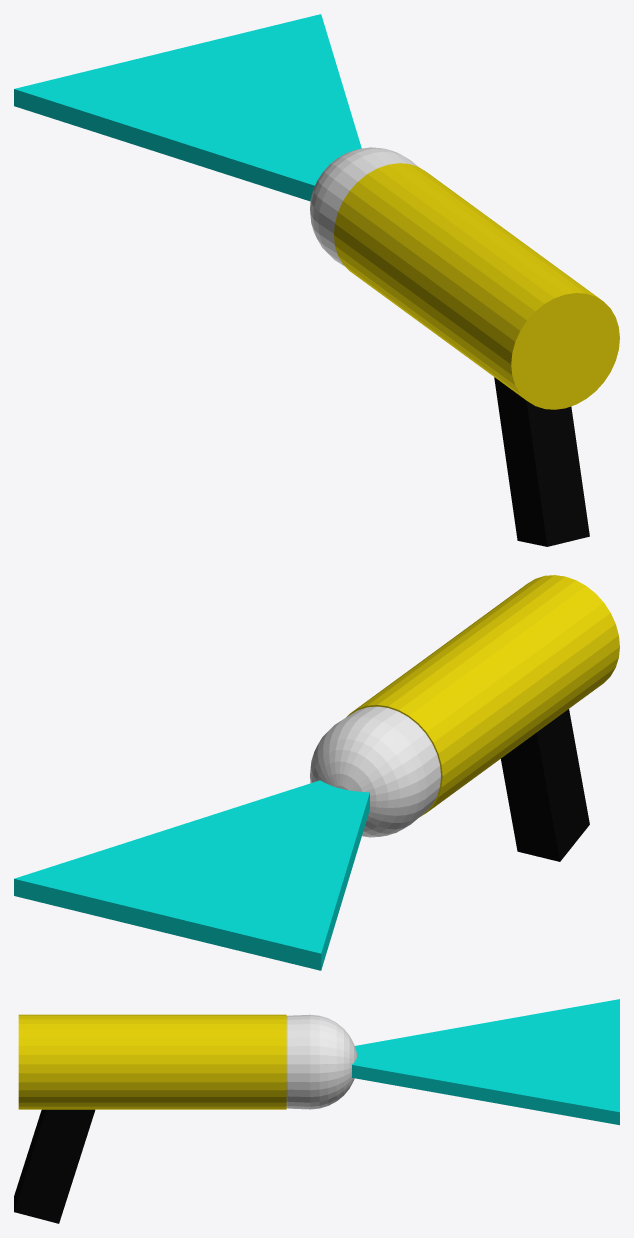
The model's file is WaterGun.fbx.
3 views of the same model, one above another, from view 1: azimuth 30°, elevation 25°; view 2: azimuth 150°, elevation 25°; view 3: azimuth 270°, elevation 25° (orthographic). The views are drawn at different scales.
Visible parts, largest first — view 1: Cylinder, Cube, Cube.001, Sphere; view 2: Cube, Cylinder, Sphere, Cube.001; view 3: Cylinder, Cube, Cube.001, Sphere.
Part boxes in pixels (bbox=[...]): Cylinder: bbox=[334, 163, 619, 409]; Cube: bbox=[14, 14, 361, 201]; Cube.001: bbox=[494, 377, 589, 546]; Sphere: bbox=[310, 147, 417, 266]; Cube: bbox=[14, 780, 369, 970]; Cylinder: bbox=[346, 575, 619, 816]; Sphere: bbox=[310, 706, 440, 837]; Cube.001: bbox=[501, 709, 589, 861]; Cylinder: bbox=[18, 1014, 286, 1109]; Cube: bbox=[352, 999, 619, 1125]; Cube.001: bbox=[14, 1109, 95, 1223]; Sphere: bbox=[286, 1014, 356, 1109].
Bounding box in the file's own units: 200 × 162 × 452.
